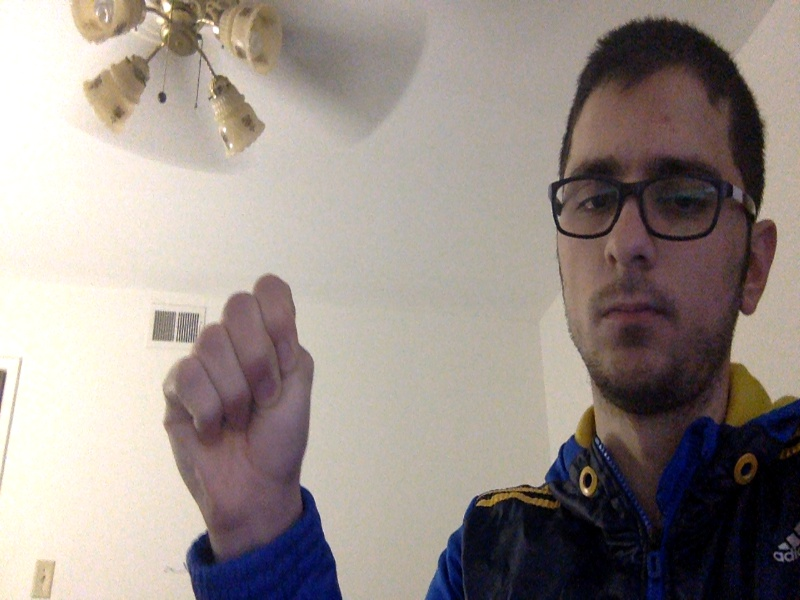0-hand: (160, 275, 315, 533)
